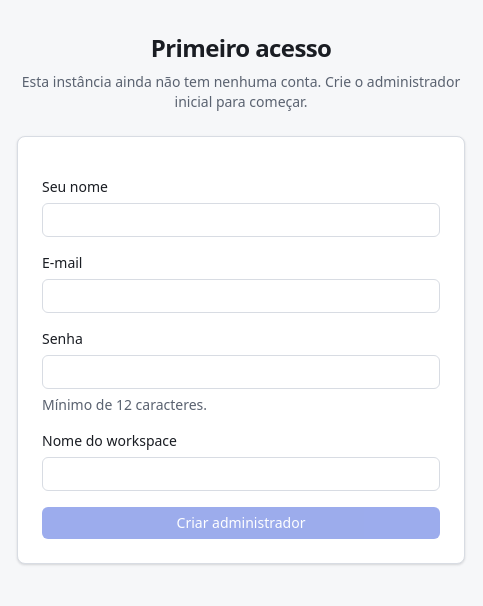
Test: FirstRunPage (BOOT-12..16) › reports the rate limit distinctly from a generic failure (BOOT-09)
Step 1. Type "Admin" into the field labelled "Seu nome" → (241, 220), box top-left (42, 203), bottom-right (440, 237)
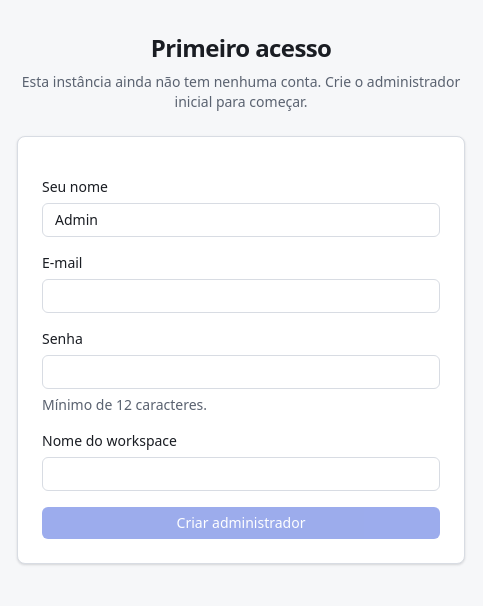
Step 2. Type "admin@example.com" into the field labelled "E-mail" → (241, 296), box top-left (42, 279), bottom-right (440, 313)
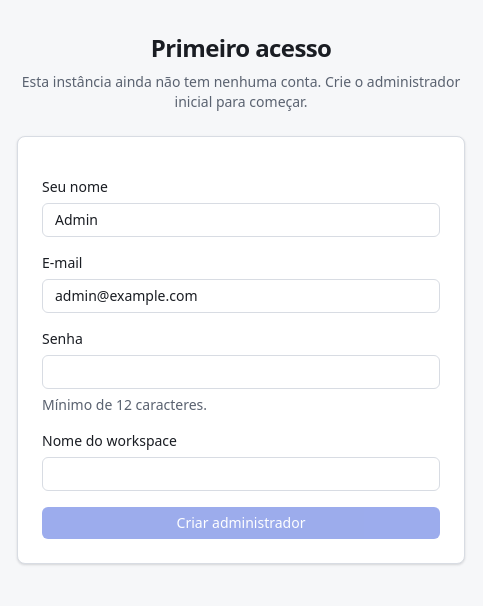
Step 3. Type "correct horse battery staple" into the password field labelled "Senha" → (241, 372), box top-left (42, 355), bottom-right (440, 389)
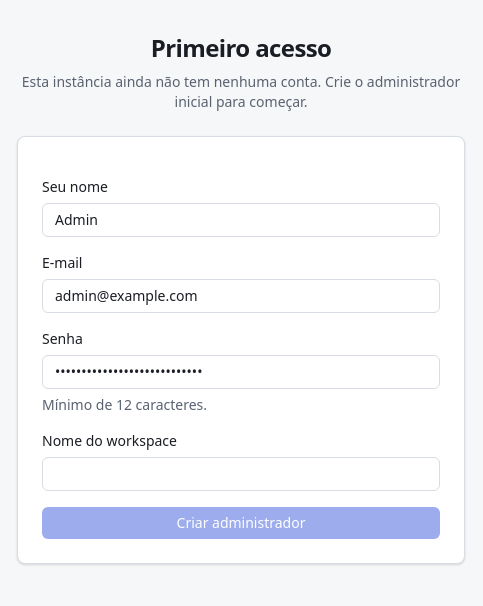
Step 4. Type "Arquitetura" into the field labelled "Nome do workspace" → (241, 474), box top-left (42, 457), bottom-right (440, 491)
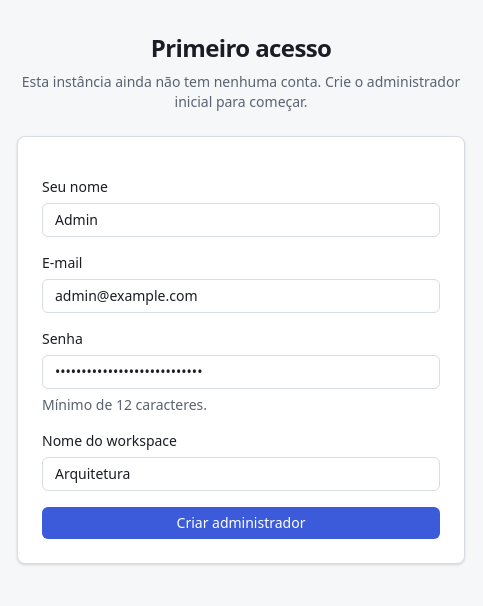
Step 5. Click the button "Criar administrador" → (241, 523), box top-left (42, 507), bottom-right (440, 539)
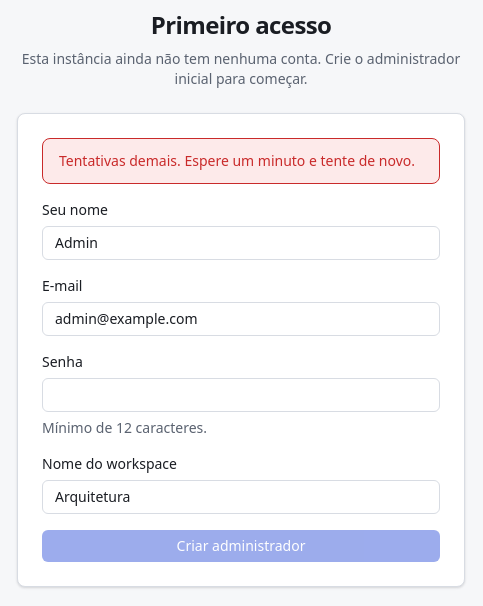
Now the text "Tentativas demais. Espere um minuto e tente de novo." is shown, box top-left (42, 138), bottom-right (440, 184)
